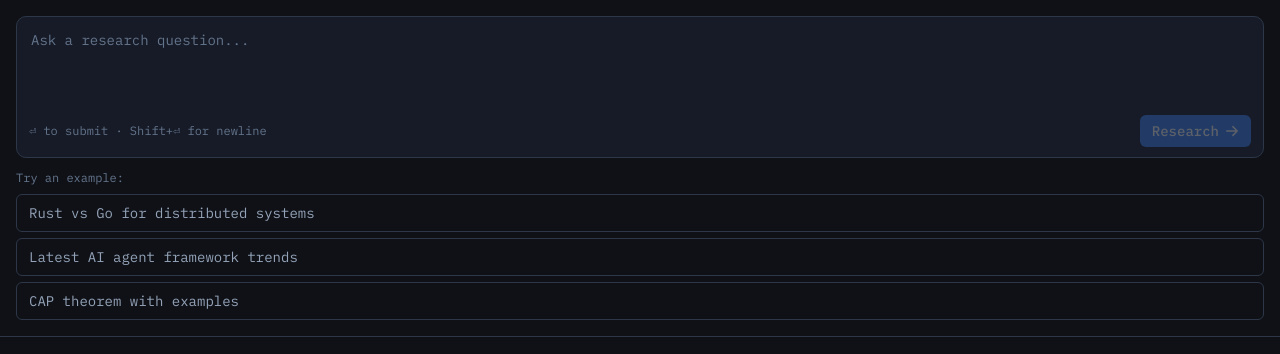
Test case: QueryInput › fills textarea when example is clicked
Click the button "Rust vs Go for distributed systems".
click(172, 213)  # box [16,194,1264,232]
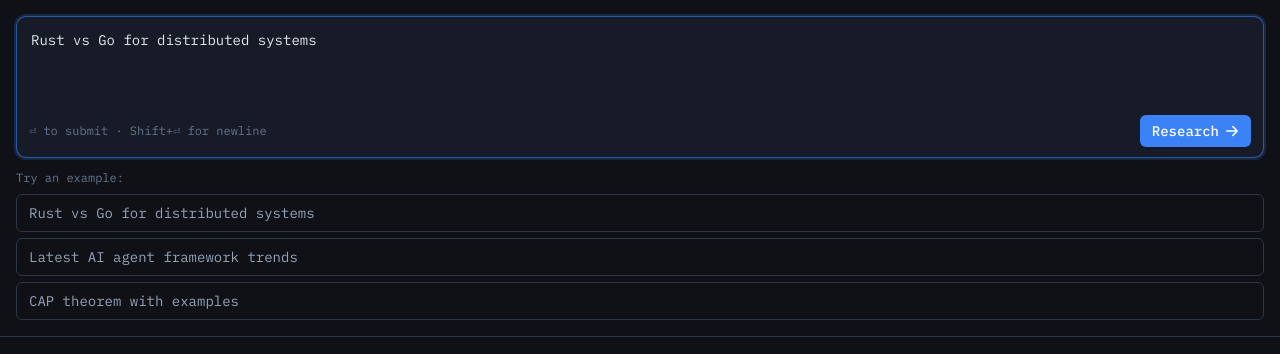
expect the text box with placeholder "Ask a research question..." holds "Rust vs Go for distributed systems": met, box [17,17,1263,109]
